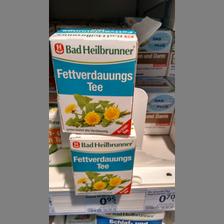tea: (49, 26, 138, 137), (69, 132, 138, 198)
